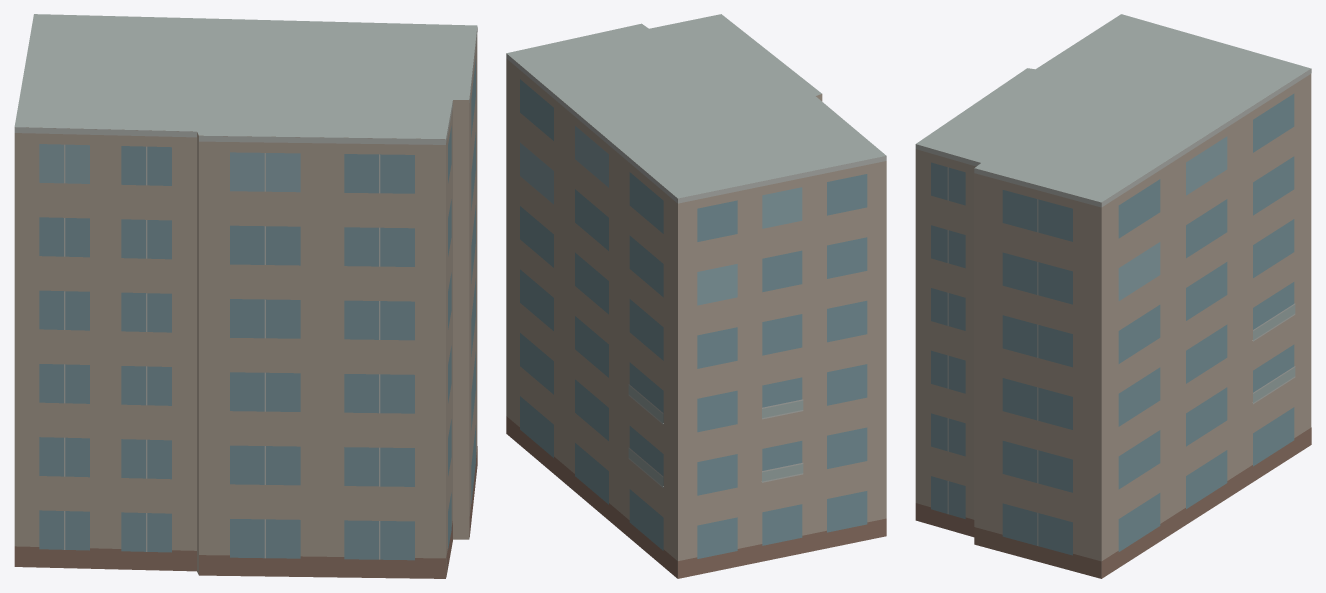
Rendered from survey-upis-32742456.glb.
3 views of the same model, side by side, from view 1: azimuth 30°, elevation 25°; view 2: azimuth 150°, elevation 25°; view 3: azimuth 270°, elevation 25° (orthographic). The views are drawn at different scales.
Parts seen in each view (by area): view 1: survey-upis-32742456.tmp; view 2: survey-upis-32742456.tmp; view 3: survey-upis-32742456.tmp.
Part boxes in pixels (x1,y1,x2,y2): survey-upis-32742456.tmp: (14,14,477,578); survey-upis-32742456.tmp: (506,14,886,578); survey-upis-32742456.tmp: (915,14,1311,578).
Bounding box in the file's own units: 19.67 × 18.3 × 17.45.
